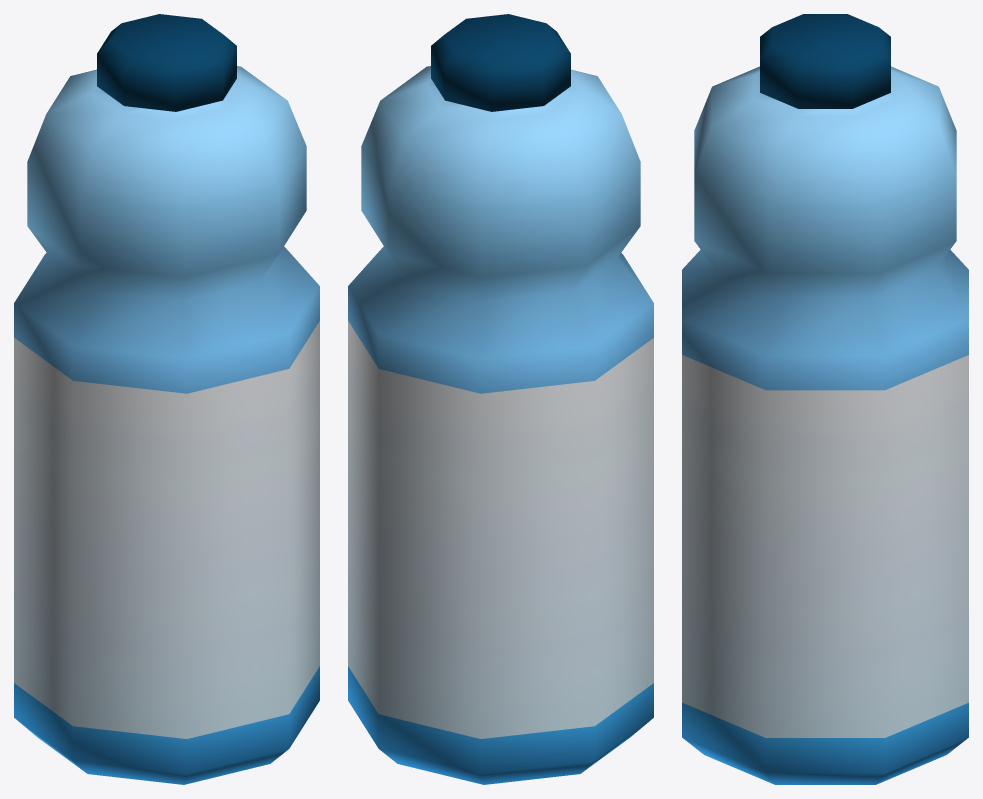
Rendered from SM_Bottle_1.fbx.
3 views of the same model, side by side, from view 1: azimuth 30°, elevation 25°; view 2: azimuth 150°, elevation 25°; view 3: azimuth 270°, elevation 25° (orthographic).
Visible parts, largest first — view 1: SM_Bottle_1; view 2: SM_Bottle_1; view 3: SM_Bottle_1.
Boxes of the visible parts, x1=… form: SM_Bottle_1: x1=14, y1=14, x2=319, y2=784; SM_Bottle_1: x1=348, y1=14, x2=653, y2=784; SM_Bottle_1: x1=682, y1=14, x2=968, y2=784.
Bounding box in the file's own units: 14.23 × 38.16 × 14.23.
Materials: 1 (1 with a texture image).
